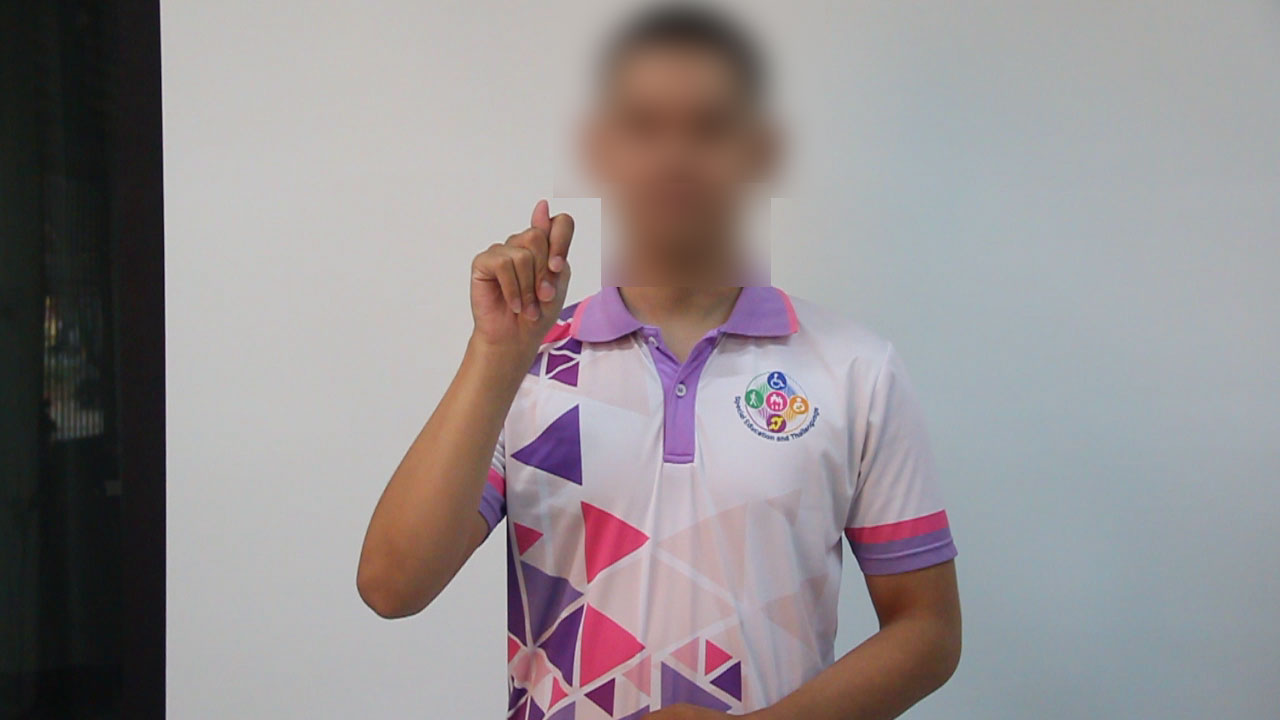tor: (454, 180, 597, 360)
